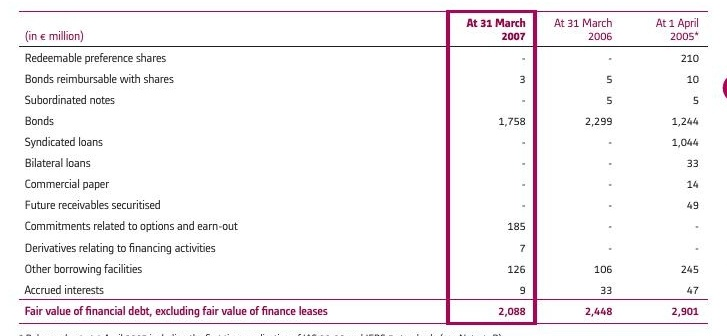table: (0, 0, 727, 336)
